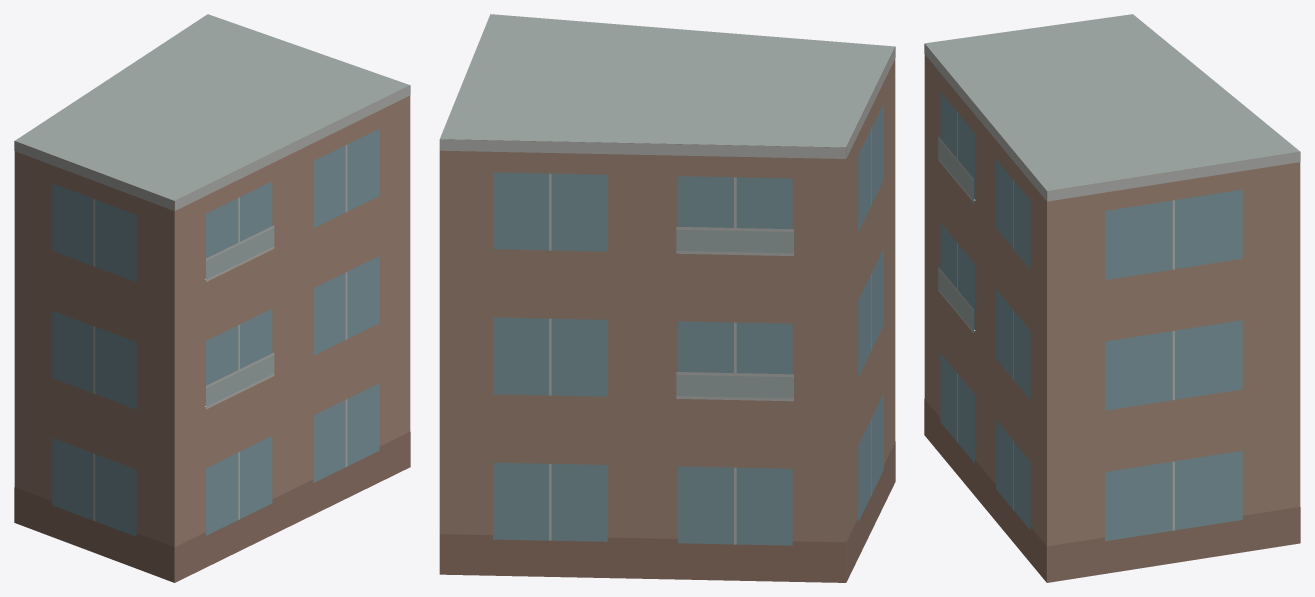
The model's file is survey-upis-32461518.glb.
3 renders of one model, left to right at view 1: azimuth 30°, elevation 25°; view 2: azimuth 150°, elevation 25°; view 3: azimuth 270°, elevation 25°, orthographic. The views are drawn at different scales.
Visible parts, largest first — view 1: survey-upis-32461518.tmp; view 2: survey-upis-32461518.tmp; view 3: survey-upis-32461518.tmp.
Part boxes in pixels (x1,y1,x2,y2): survey-upis-32461518.tmp: (14, 14, 410, 582); survey-upis-32461518.tmp: (439, 14, 895, 582); survey-upis-32461518.tmp: (924, 14, 1300, 582).
Bounding box in the file's own units: 8.88 × 9.15 × 7.97.
